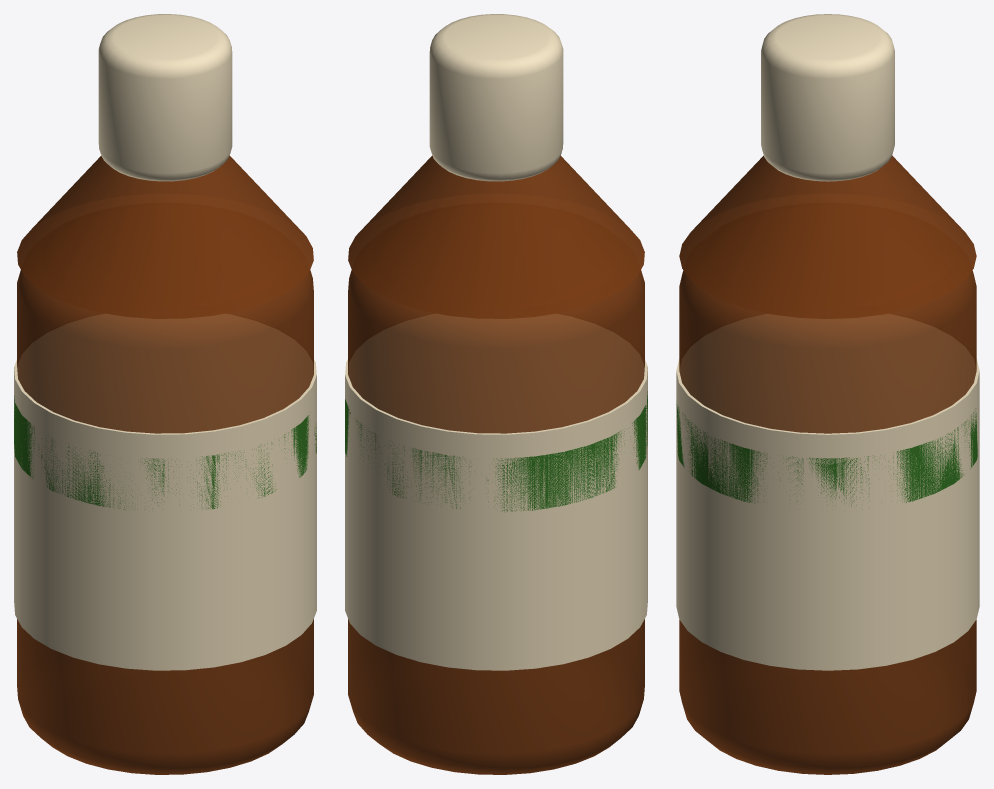
File: tincture.glb
The picture shows the model from 3 angles, left to right: view 1: azimuth 30°, elevation 25°; view 2: azimuth 150°, elevation 25°; view 3: azimuth 270°, elevation 25°; orthographic projection.
Visible parts, largest first — view 1: tincture; view 2: tincture; view 3: tincture.
Part boxes in pixels (x1=…): tincture: x1=14, y1=14, x2=316, y2=774; tincture: x1=345, y1=14, x2=647, y2=774; tincture: x1=676, y1=14, x2=979, y2=774.
Bounding box in the file's own units: 0.0408 × 0.102 × 0.0408.
